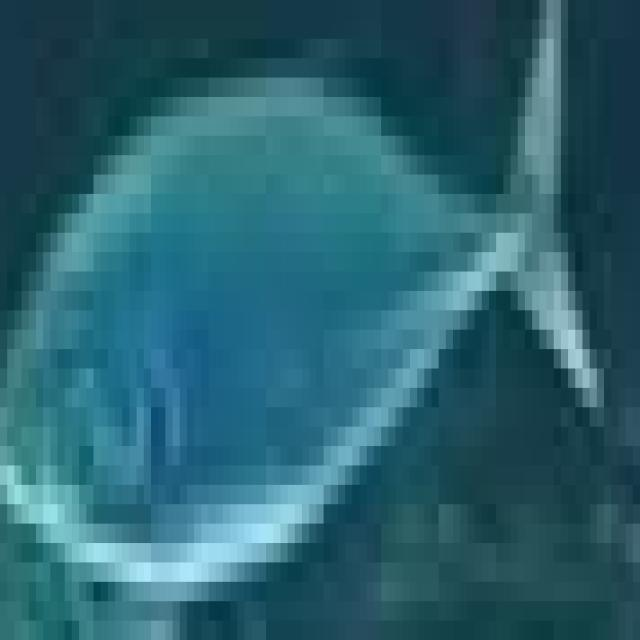fish: (7, 0, 640, 621)
